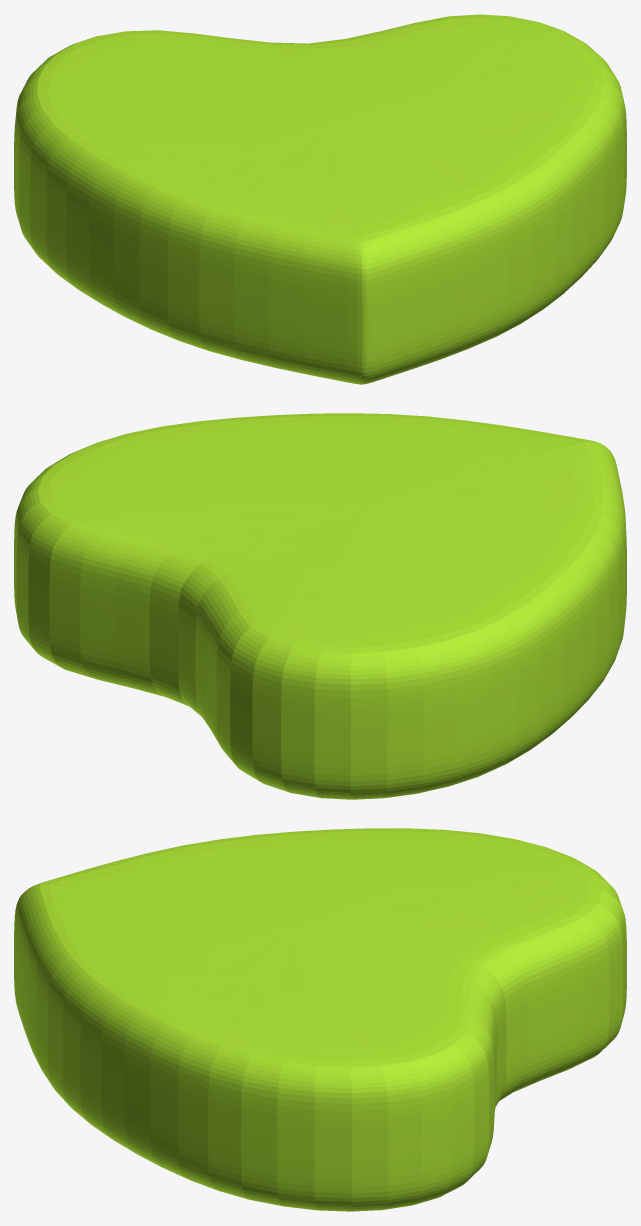
The model's file is heart5.glb.
The picture shows the model from 3 angles, top to bottom: view 1: azimuth 30°, elevation 25°; view 2: azimuth 150°, elevation 25°; view 3: azimuth 270°, elevation 25°; orthographic projection. The views are drawn at different scales.
Bounding box in the file's own units: 0.2465 × 0.0674 × 0.2468.
